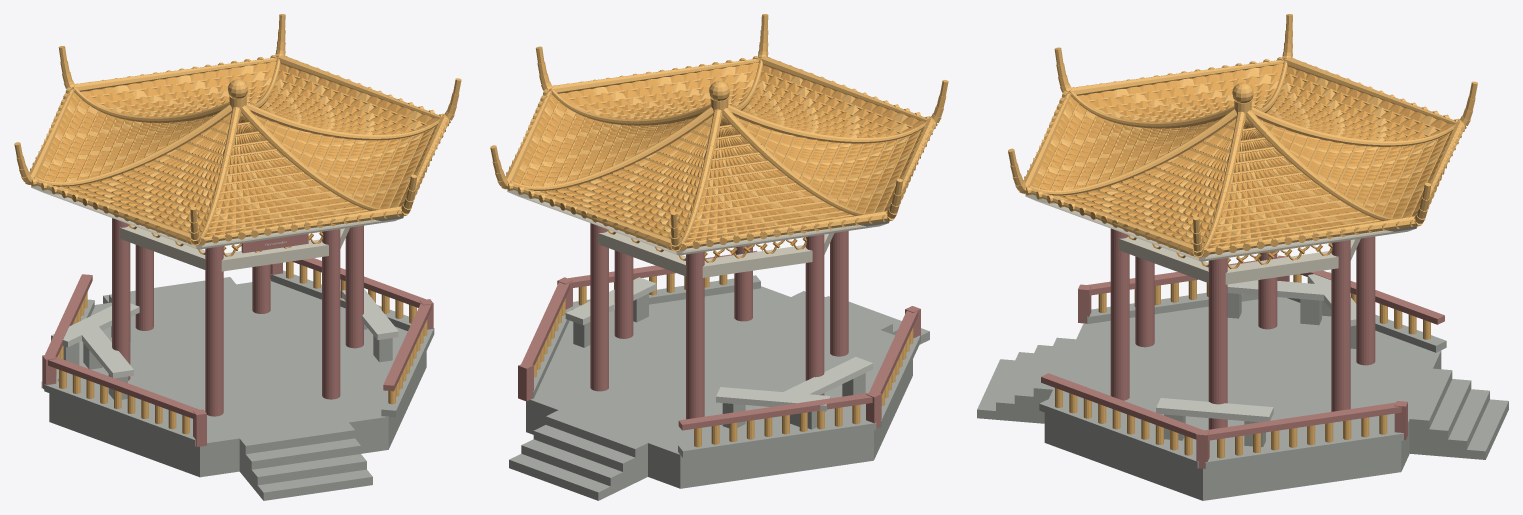
File: tianhan-pavilion.glb
3 renders of one model, left to right at view 1: azimuth 30°, elevation 25°; view 2: azimuth 150°, elevation 25°; view 3: azimuth 270°, elevation 25°, orthographic. The views are drawn at different scales.
Visible parts, largest first — view 1: tianhan-pavilion; view 2: tianhan-pavilion; view 3: tianhan-pavilion.
Part boxes in pixels (bbox=[...]): tianhan-pavilion: bbox=[14, 14, 461, 500]; tianhan-pavilion: bbox=[490, 14, 948, 500]; tianhan-pavilion: bbox=[977, 14, 1508, 500].
Bounding box in the file's own units: 7.63 × 5.7 × 8.31.
